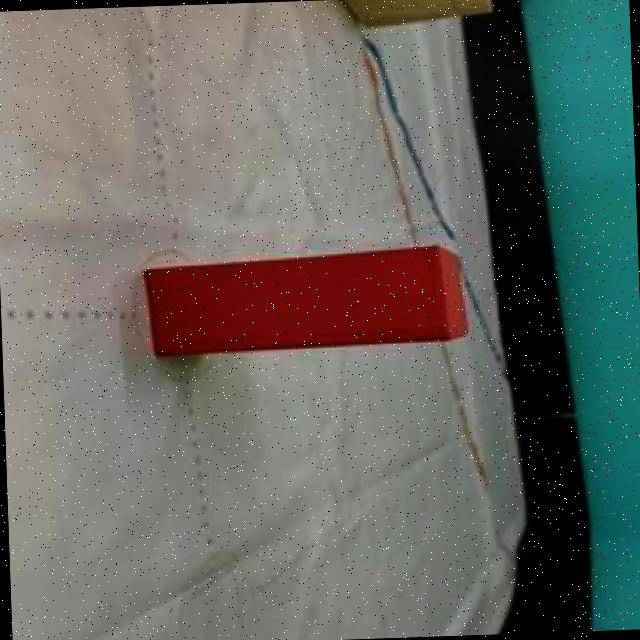redbox: (141, 243, 468, 358)
